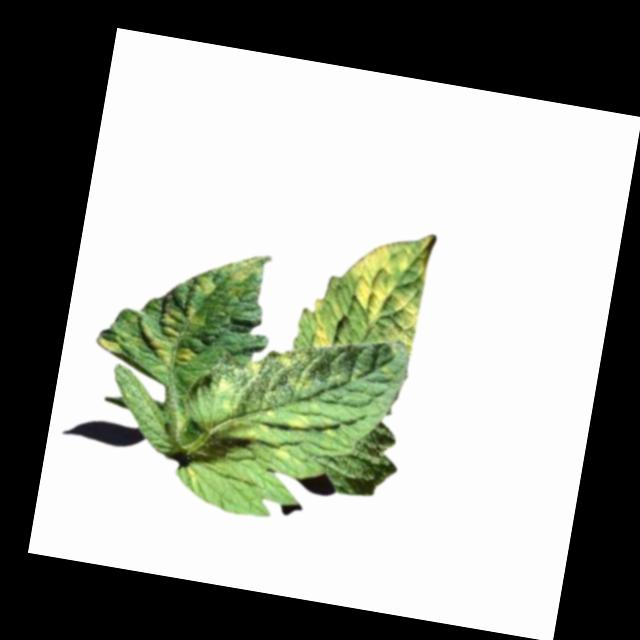Leaf_Mold: (335, 219, 438, 351), (135, 294, 206, 367), (214, 247, 272, 303), (268, 343, 320, 392), (304, 292, 336, 347), (265, 435, 297, 465), (93, 328, 128, 354), (190, 271, 215, 297), (284, 410, 309, 433)
